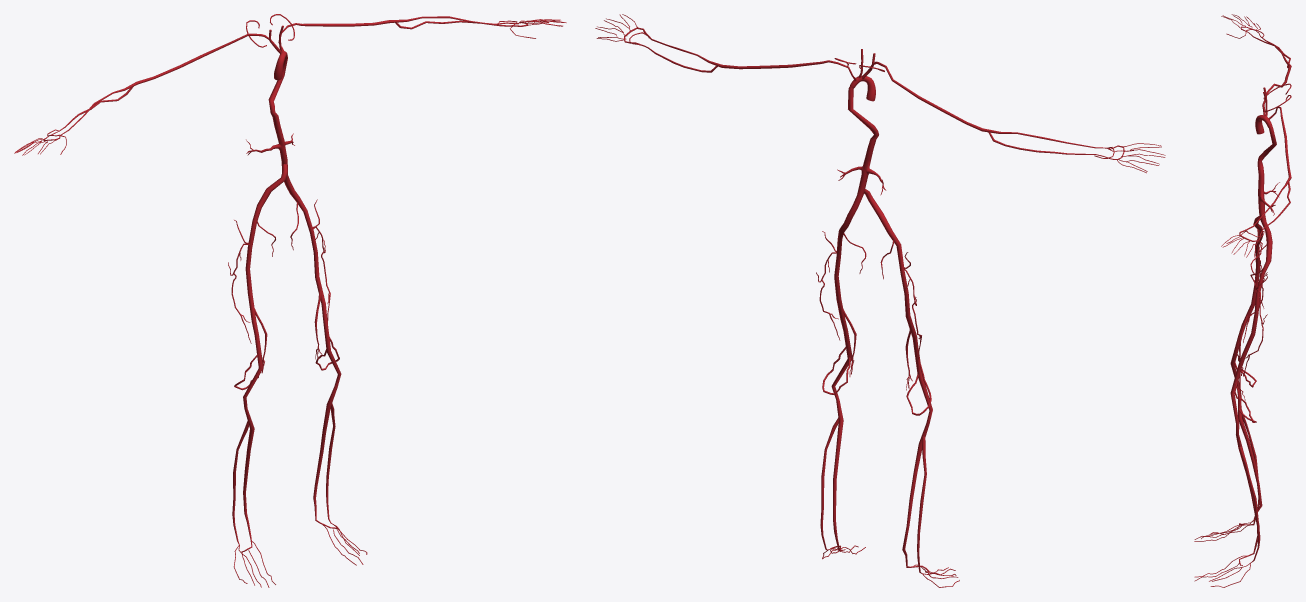
Rendered from xueguan_hongse.FBX.
3 renders of one model, left to right at view 1: azimuth 30°, elevation 25°; view 2: azimuth 150°, elevation 25°; view 3: azimuth 270°, elevation 25°, orthographic. The views are drawn at different scales.
Visible parts, largest first — view 1: Circulatory_Arteries; view 2: Circulatory_Arteries; view 3: Circulatory_Arteries.
Part boxes in pixels (box(x1,y1,x2,y2)): Circulatory_Arteries: box(14, 14, 566, 587); Circulatory_Arteries: box(595, 14, 1165, 587); Circulatory_Arteries: box(1194, 14, 1291, 587).
Bounding box in the file's own units: 170 × 156 × 29.06.
